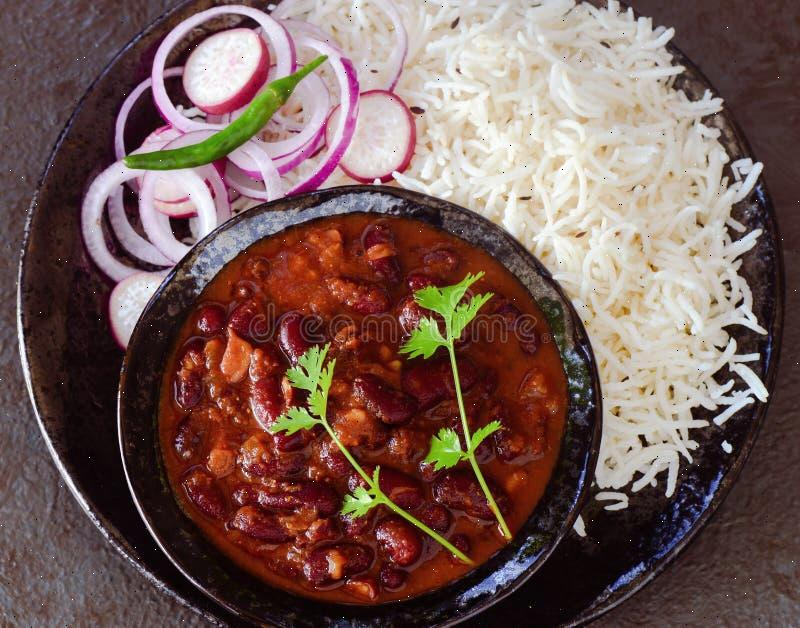rajma: (107, 245, 550, 603)
rice: (425, 2, 742, 258)
